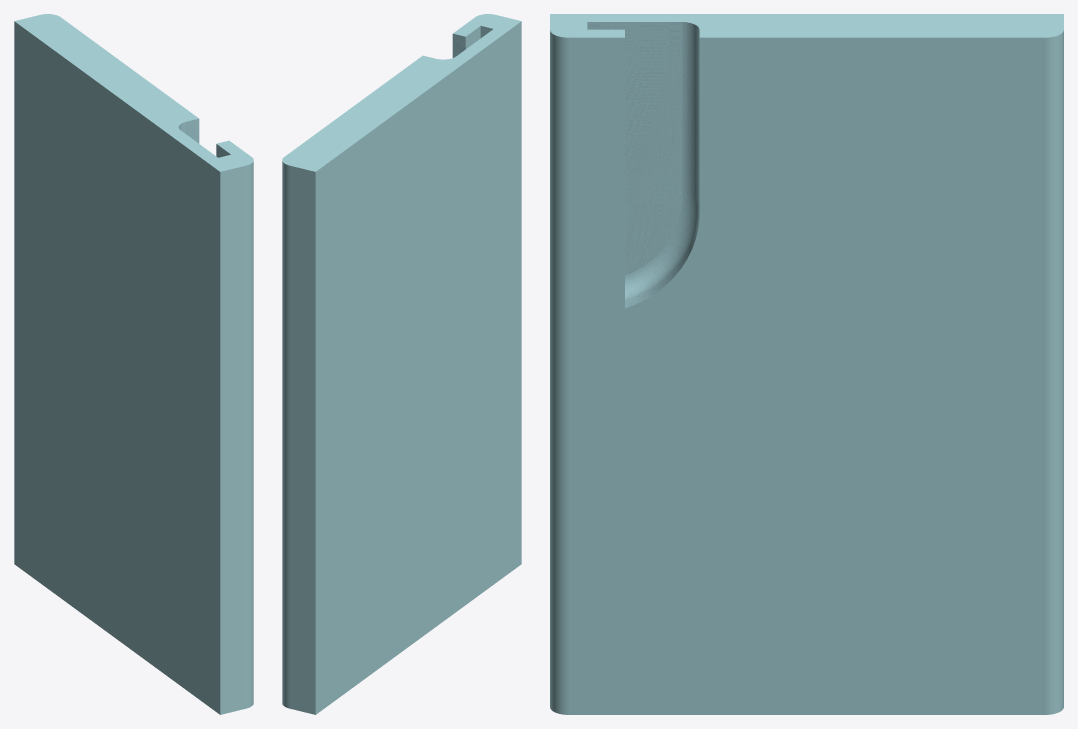
Rendered from refrigerator_down_door.dae.
3 renders of one model, left to right at view 1: azimuth 30°, elevation 25°; view 2: azimuth 150°, elevation 25°; view 3: azimuth 270°, elevation 25°, orthographic. The views are drawn at different scales.
Parts seen in each view (by area): view 1: 电冰箱01; view 2: 电冰箱01; view 3: 电冰箱01 (×2).
Part boxes in pixels (box(x1,y1,x2,y2)): 电冰箱01: box(14, 14, 253, 714); 电冰箱01: box(282, 14, 521, 714); 电冰箱01 (×2): box(550, 14, 1063, 714).
Bounding box in the file's own units: 2.36 × 21.65 × 31.5.
